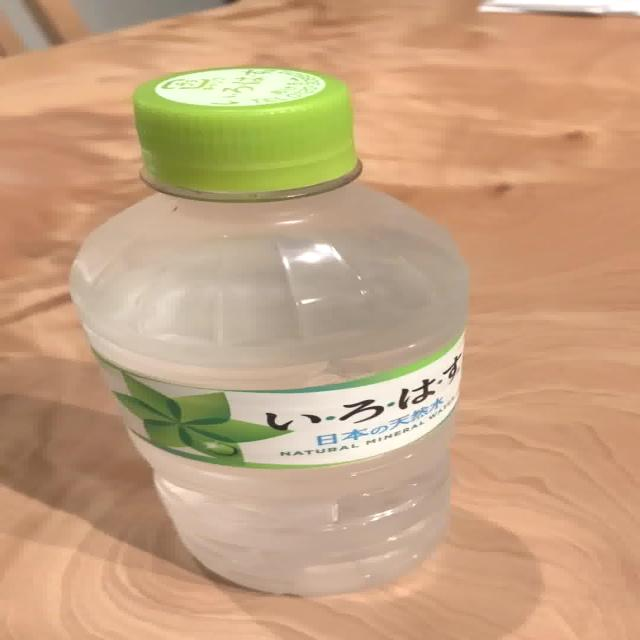bottle: (64, 63, 474, 601)
